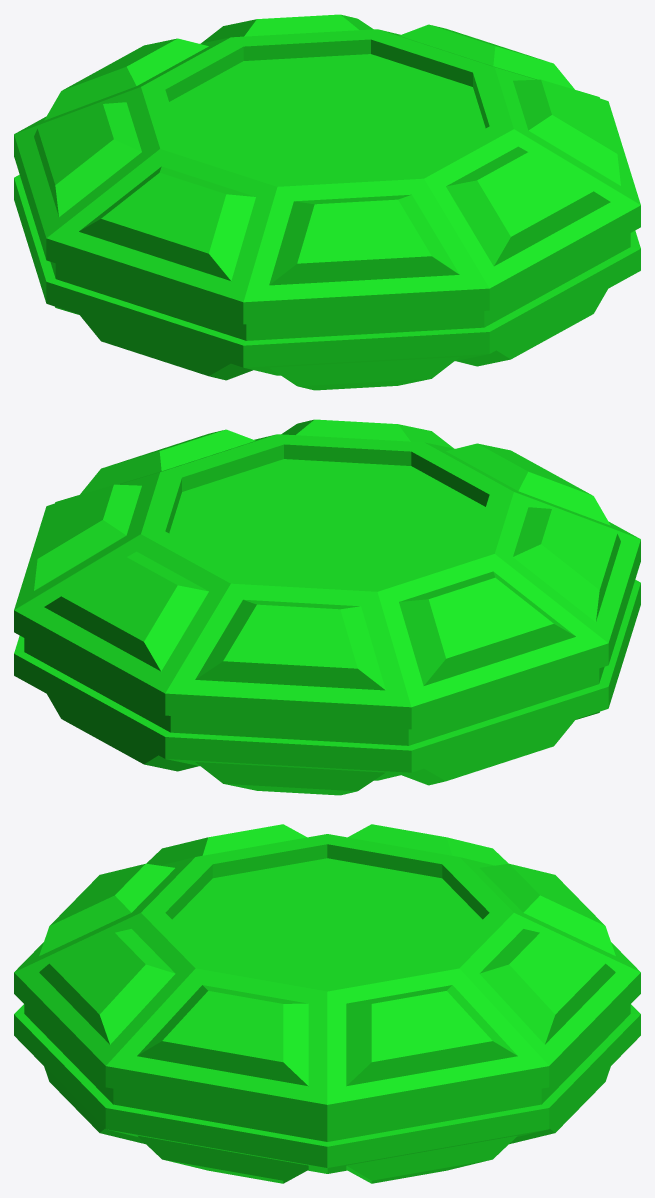
The model's file is emerald.fbx.
3 renders of one model, top to bottom at view 1: azimuth 30°, elevation 25°; view 2: azimuth 150°, elevation 25°; view 3: azimuth 270°, elevation 25°, orthographic. The views are drawn at different scales.
Visible parts, largest first — view 1: Cylinder; view 2: Cylinder; view 3: Cylinder.
Part boxes in pixels (bbox=[...]): Cylinder: bbox=[14, 14, 640, 390]; Cylinder: bbox=[14, 419, 640, 795]; Cylinder: bbox=[14, 824, 640, 1183].
Size of the model in its own units: 100 by 32.12 by 100.
